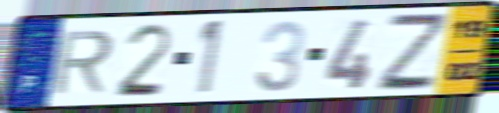1: (196, 17, 227, 98)
2: (114, 22, 174, 99)
3: (254, 18, 307, 94)
4: (321, 15, 374, 92)
R: (48, 28, 116, 97)
Z: (375, 11, 448, 94)
